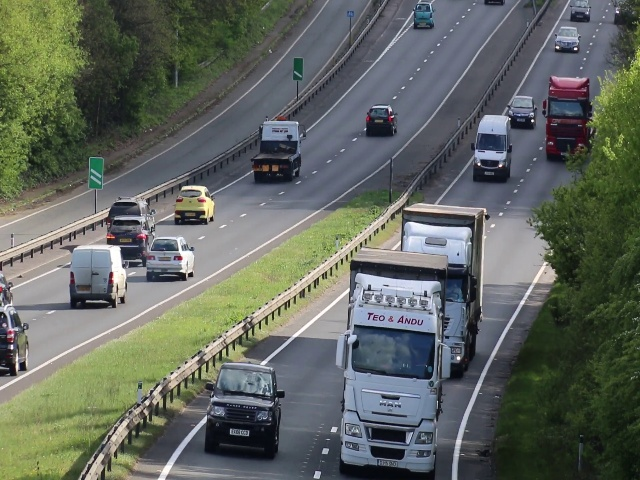car: (340, 264, 436, 477), (207, 361, 281, 458), (447, 240, 480, 380), (69, 244, 128, 308), (544, 74, 586, 163), (407, 211, 475, 254), (256, 119, 298, 181), (145, 234, 194, 285), (474, 115, 513, 179), (107, 217, 154, 263), (1, 304, 29, 373), (175, 183, 216, 222), (365, 103, 397, 139), (104, 198, 154, 221), (554, 24, 580, 55), (511, 95, 536, 127), (413, 2, 435, 31)
